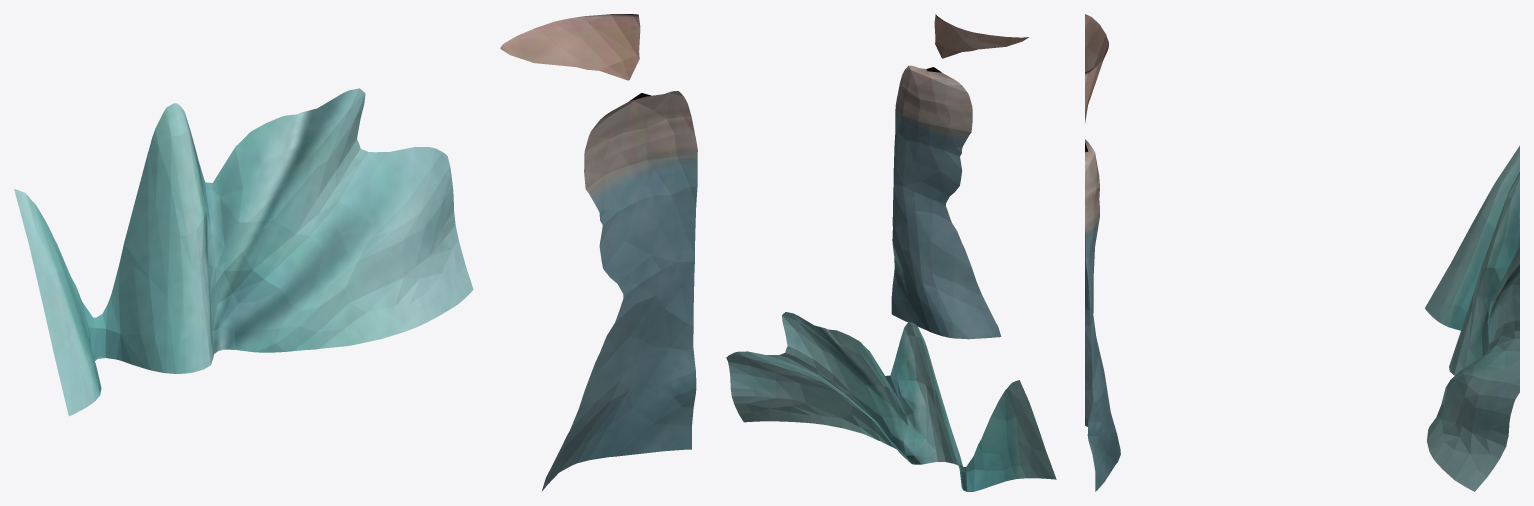
The picture shows the model from 3 angles, left to right: view 1: azimuth 30°, elevation 25°; view 2: azimuth 150°, elevation 25°; view 3: azimuth 270°, elevation 25°; orthographic projection. The views are drawn at different scales.
Visible parts, largest first — view 1: 091_W_Aya_100K_01; view 2: 091_W_Aya_100K_01; view 3: 091_W_Aya_100K_01.
Boxes of the visible parts, left/top/right/bottom form: 091_W_Aya_100K_01: left=14, top=14, right=697, bottom=490; 091_W_Aya_100K_01: left=726, top=14, right=1056, bottom=491; 091_W_Aya_100K_01: left=1085, top=14, right=1519, bottom=491.
Size of the model in its own units: 85.74 by 85.74 by 85.74.
1 material, 1 textured.
